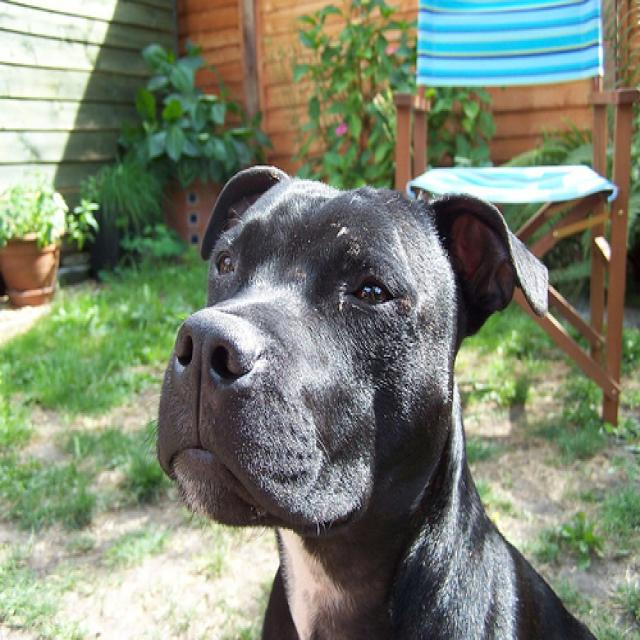dog: (155, 162, 545, 522)
